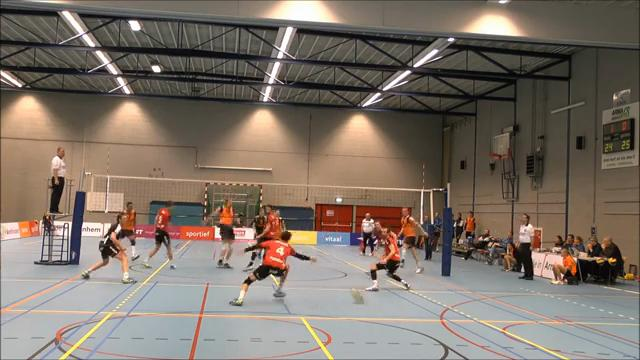Dig: (222, 227, 321, 307)
Player: (81, 214, 134, 283), (365, 228, 410, 290), (142, 201, 172, 267), (398, 207, 423, 272), (215, 199, 234, 268), (119, 202, 139, 260), (256, 205, 281, 241), (251, 207, 266, 242)
ball: (348, 288, 367, 308)
